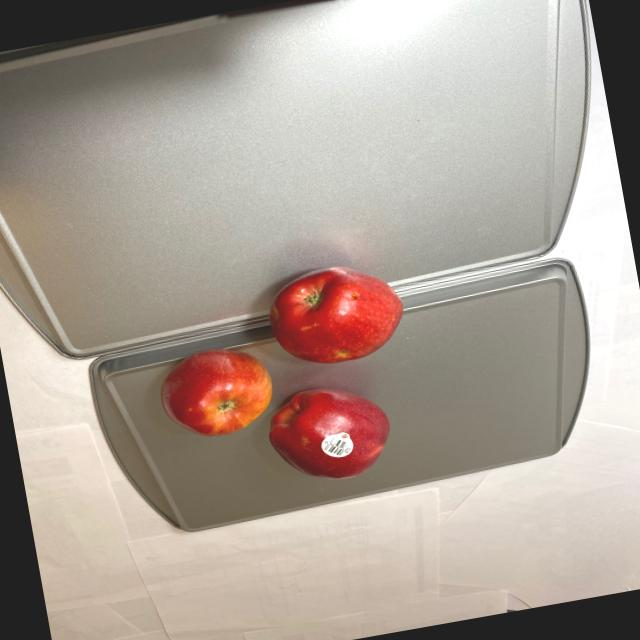apple: (142, 255, 430, 508)
